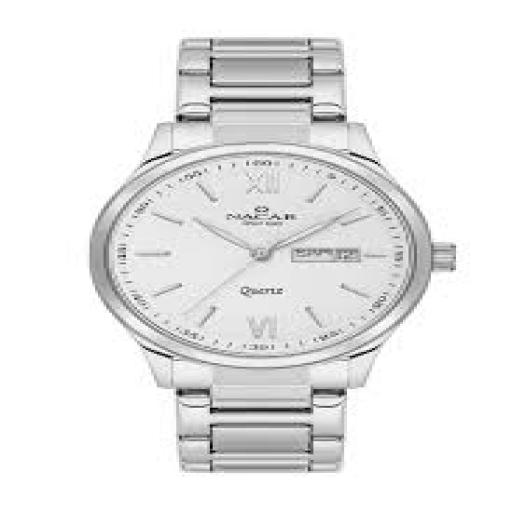KolSaati: (70, 20, 479, 502)
